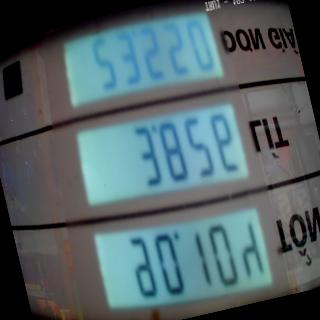screen: (37, 0, 281, 320)
